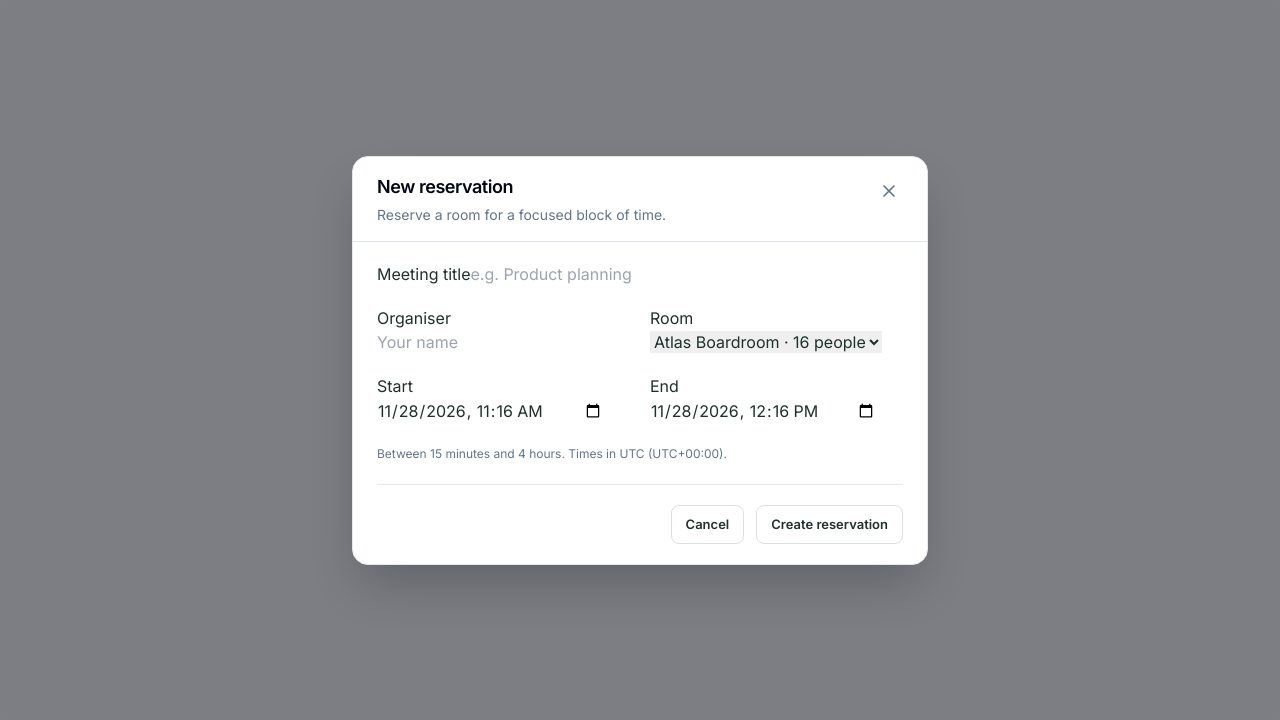
Test: BookingForm › surfaces a server conflict in the form
This screenshot has width=1280, height=720.
Type "Product planning" into the field labelled "Meeting title" at x=588, y=274, box [470,262,704,286]
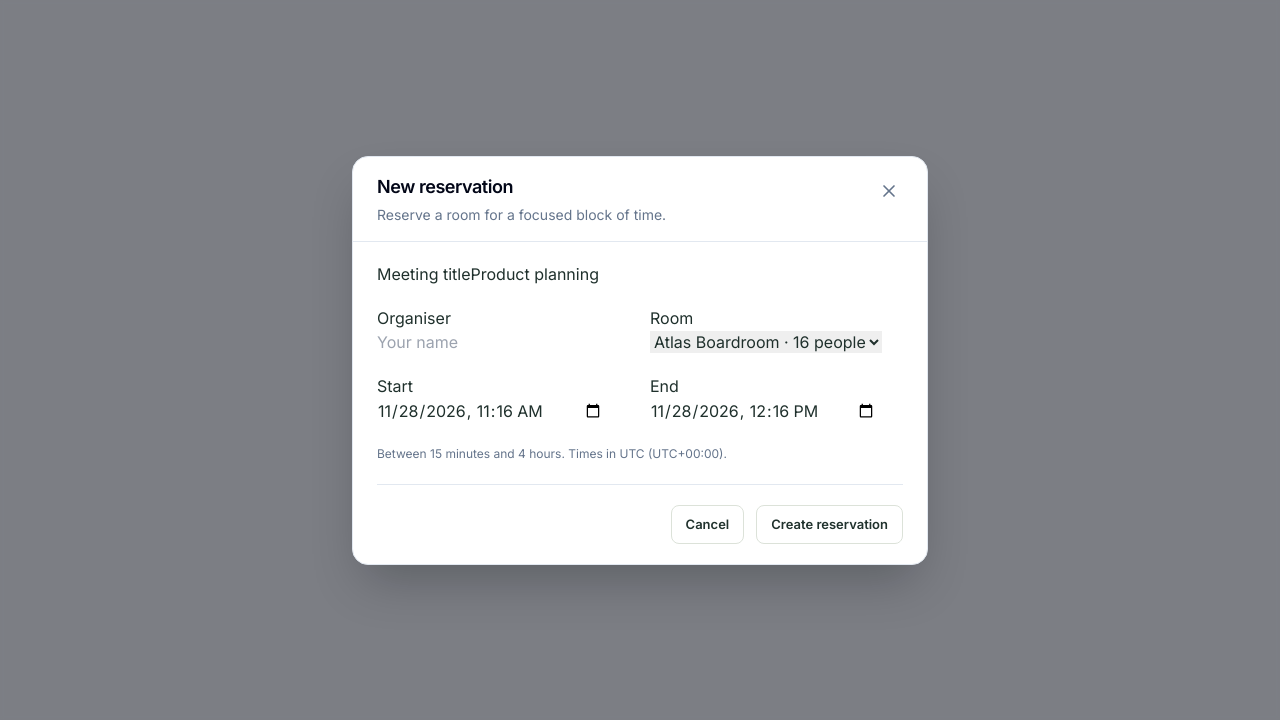
Type "Alex Morgan" into the field labelled "Organiser" at x=494, y=342, box [377,330,611,354]
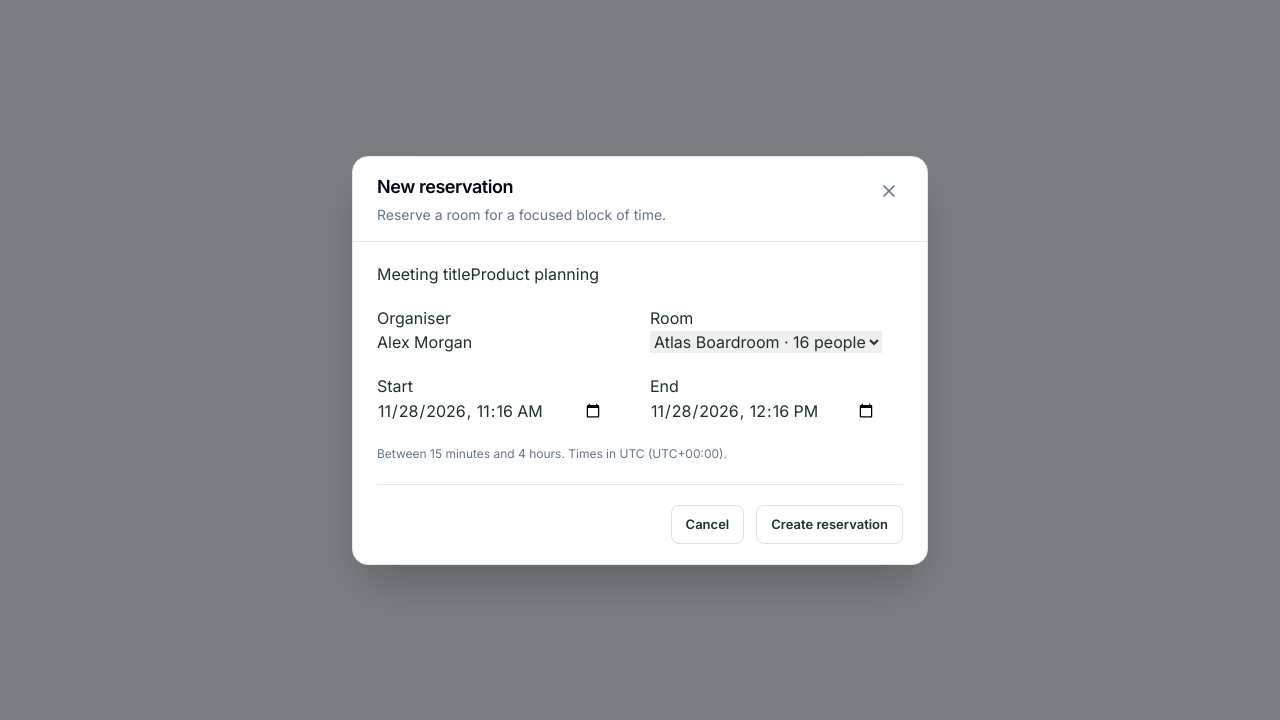
Click the button "Create reservation" at x=830, y=524, box [756,504,903,544]
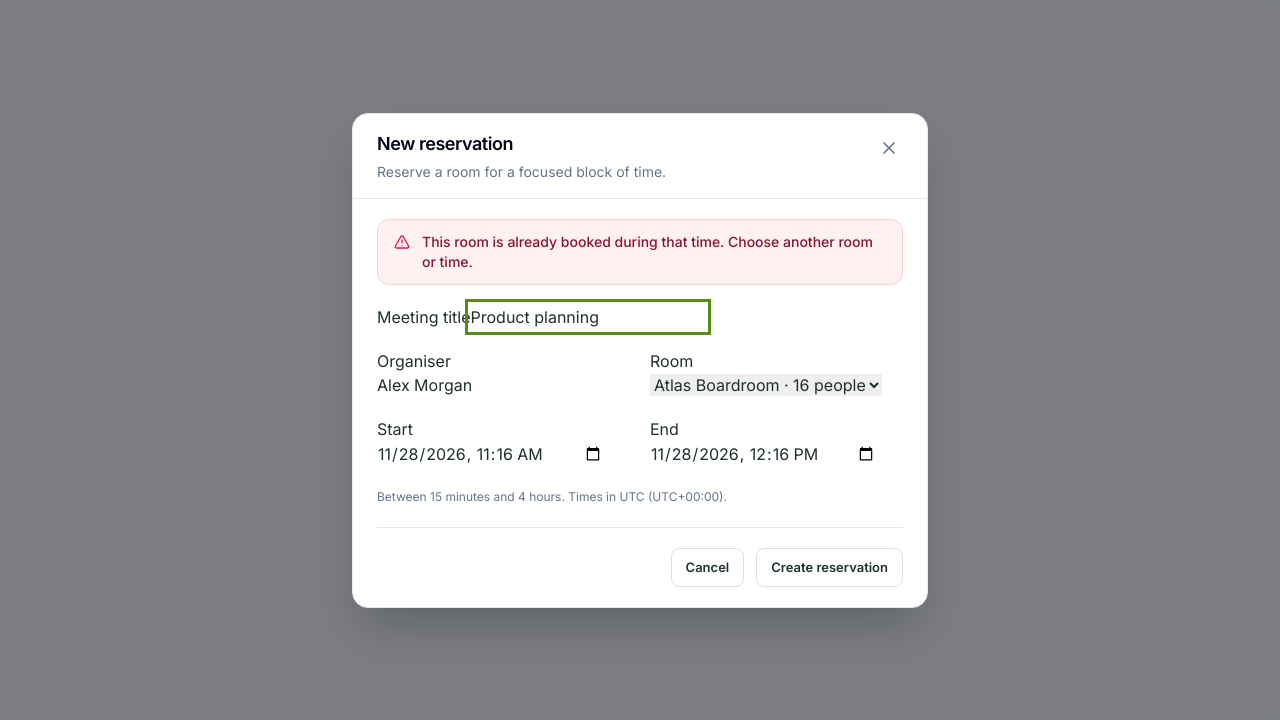
Expected: the message shows "already booked", [422,232,873,270]
